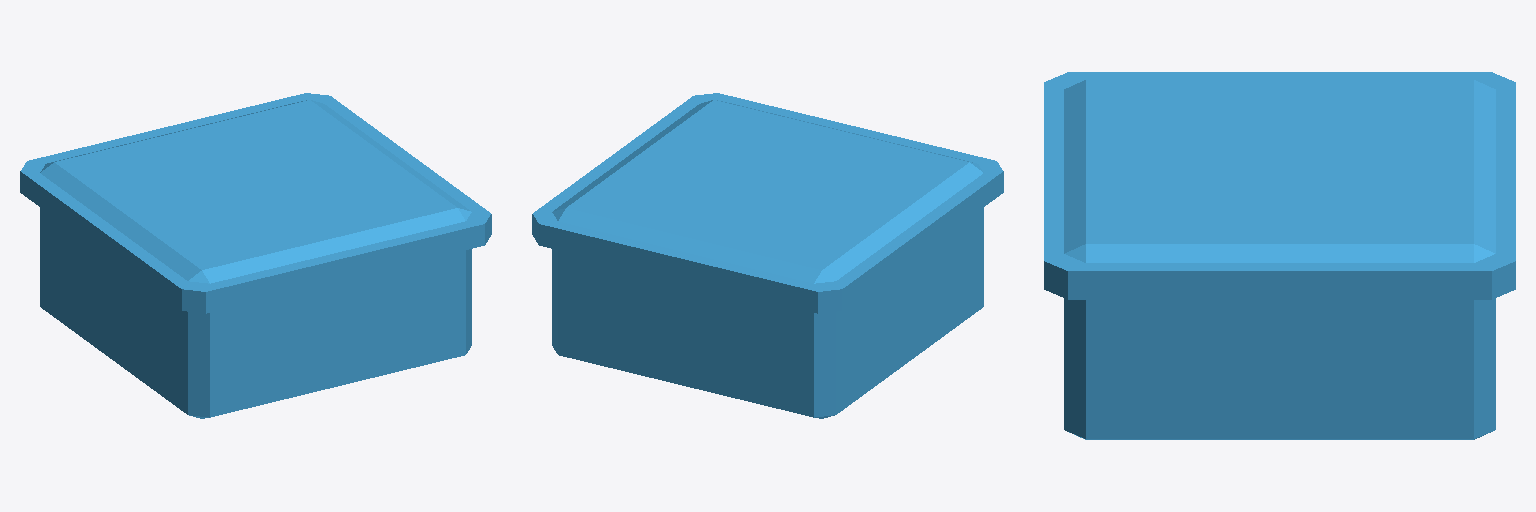
The robot description file, URDF, robot "urdfbot":
<?xml version="1.0"?>
<robot name="urdfbot">

  <link name="base_link">
    <visual>        
      <geometry>
        <mesh filename="package://urdfbot_description/meshes/urdfbot_body.dae" scale="0.1 0.1 0.1"/>
      </geometry>
    </visual>
  </link>

  <link name="head_link">
    <visual>
    <origin rpy="0 0 0" xyz="0 0 0" />
      <geometry>
        <mesh filename="package://urdfbot_description/meshes/urdfbot_head.dae" scale="0.1 0.1 0.1"/>
      </geometry>
    </visual>
  </link>

    <joint name="base_link_to_head_link_joint" type="revolute">
        <origin xyz="0 0 0.07" rpy="0 0 0"/>
        <parent link="base_link"/>
        <child link="head_link"/>
        <axis xyz="0 0 1"/>
        <limit effort="100" velocity="1.0" lower="-1.57" upper="1.57"/>
    </joint>


    <!-- Right Arm -->

    <link name="upper_arm_r_link">
        <visual>
        <origin rpy="0 0 0" xyz="0 0 0" />
        <geometry>
            <mesh filename="package://urdfbot_description/meshes/urdfbot_limb.dae" scale="0.1 0.1 0.1"/>
        </geometry>
        </visual>
    </link>

    <joint name="base_link_to_upper_arm_r_link_joint" type="revolute">
        <origin xyz="0 -0.03272 0.0279895" rpy="-1.57 0 0"/>
        <parent link="base_link"/>
        <child link="upper_arm_r_link"/>
        <axis xyz="0 0 1"/>
        <limit effort="100" velocity="1.0" lower="-1.0" upper="1.0"/>
    </joint>

    <link name="lower_arm_r_link">
        <visual>
        <origin rpy="0 0 0" xyz="0 0 0" />
        <geometry>
            <mesh filename="package://urdfbot_description/meshes/urdfbot_limb.dae" scale="0.1 0.1 0.1"/>
        </geometry>
        </visual>
    </link>

    <joint name="upper_arm_r_link_to_lower_arm_r_link_joint" type="revolute">
        <origin xyz="0 0 -0.0568" rpy="0 0 0"/>
        <parent link="upper_arm_r_link"/>
        <child link="lower_arm_r_link"/>
        <axis xyz="1 0 0"/>
        <limit effort="100" velocity="1.0" lower="-1.0" upper="1.0"/>
    </joint>


    <link name="claw_a_r_link">
        <visual>
        <origin rpy="0 0 0" xyz="0 0 0" />
        <geometry>
            <mesh filename="package://urdfbot_description/meshes/urdfbot_claw.dae" scale="0.1 0.1 0.1"/>
        </geometry>
        </visual>
    </link>

    <joint name="upper_arm_r_link_to_claw_a_r_link_joint" type="revolute">
        <origin xyz="0 0 -0.065" rpy="-1.57 0 -1.57"/>
        <parent link="lower_arm_r_link"/>
        <child link="claw_a_r_link"/>
        <axis xyz="0 0 1"/>
        <limit effort="100" velocity="1.0" lower="-0.7" upper="0.7"/>
    </joint>

    <link name="claw_b_r_link">
        <visual>
        <origin rpy="0 0 0" xyz="0 0 0" />
        <geometry>
            <mesh filename="package://urdfbot_description/meshes/urdfbot_claw.dae" scale="0.1 0.1 0.1"/>
        </geometry>
        </visual>
    </link>

    <joint name="upper_arm_r_link_to_claw_b_r_link_joint" type="revolute">
        <origin xyz="0 0 -0.065" rpy="-1.57 0 1.57"/>
        <parent link="lower_arm_r_link"/>
        <child link="claw_b_r_link"/>
        <axis xyz="0 0 1"/>
        <limit effort="100" velocity="1.0" lower="0.0" upper="0.0"/>
        <mimic joint="upper_arm_r_link_to_claw_a_r_link_joint" multiplier="1.0" offset="0.0"/>
    </joint>


</robot>

--- Facts derived from the render (not from the file) ---
The picture shows the robot from 3 angles, left to right: view 1: azimuth 30°, elevation 25°; view 2: azimuth 150°, elevation 25°; view 3: azimuth 270°, elevation 25°; orthographic projection.
Robot: urdfbot — 6 links, 5 joints (5 revolute); root link base_link; default pose: every joint at zero.
Links seen in each view (by area): view 1: head_link; view 2: head_link; view 3: head_link.
Boxes of the visible links, box(x1,y1,x2,y2) form: head_link: box(20, 93, 491, 418); head_link: box(532, 93, 1003, 418); head_link: box(1044, 72, 1515, 439).
Size in the robot's own frame: 0.109 by 0.109 by 0.05 metres.
Meshes: 4 distinct files referenced, 1 mesh visuals loaded (1 Collada DAE); not drawn: 5 (file found but could not be loaded).